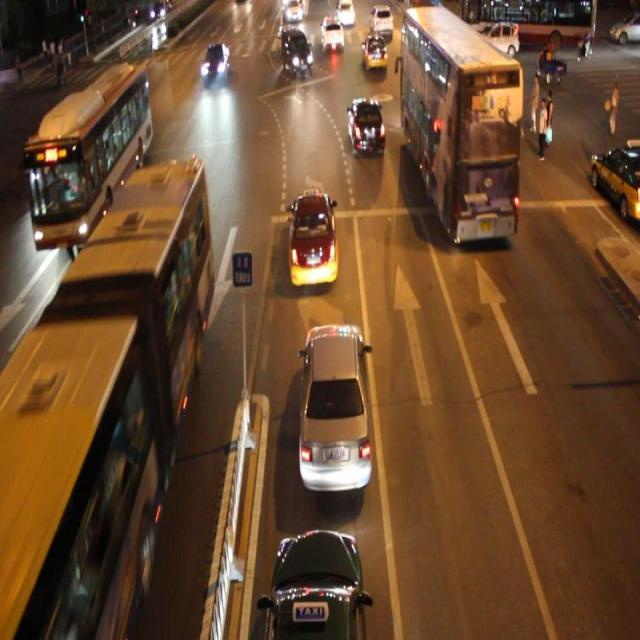car: (299, 322, 372, 490), (260, 526, 367, 640), (287, 188, 339, 284), (347, 95, 385, 155), (26, 129, 61, 191), (280, 28, 314, 75), (201, 43, 229, 84), (362, 33, 387, 71), (320, 15, 344, 50)
van: (1, 159, 214, 640), (400, 10, 517, 238), (29, 64, 149, 247)
